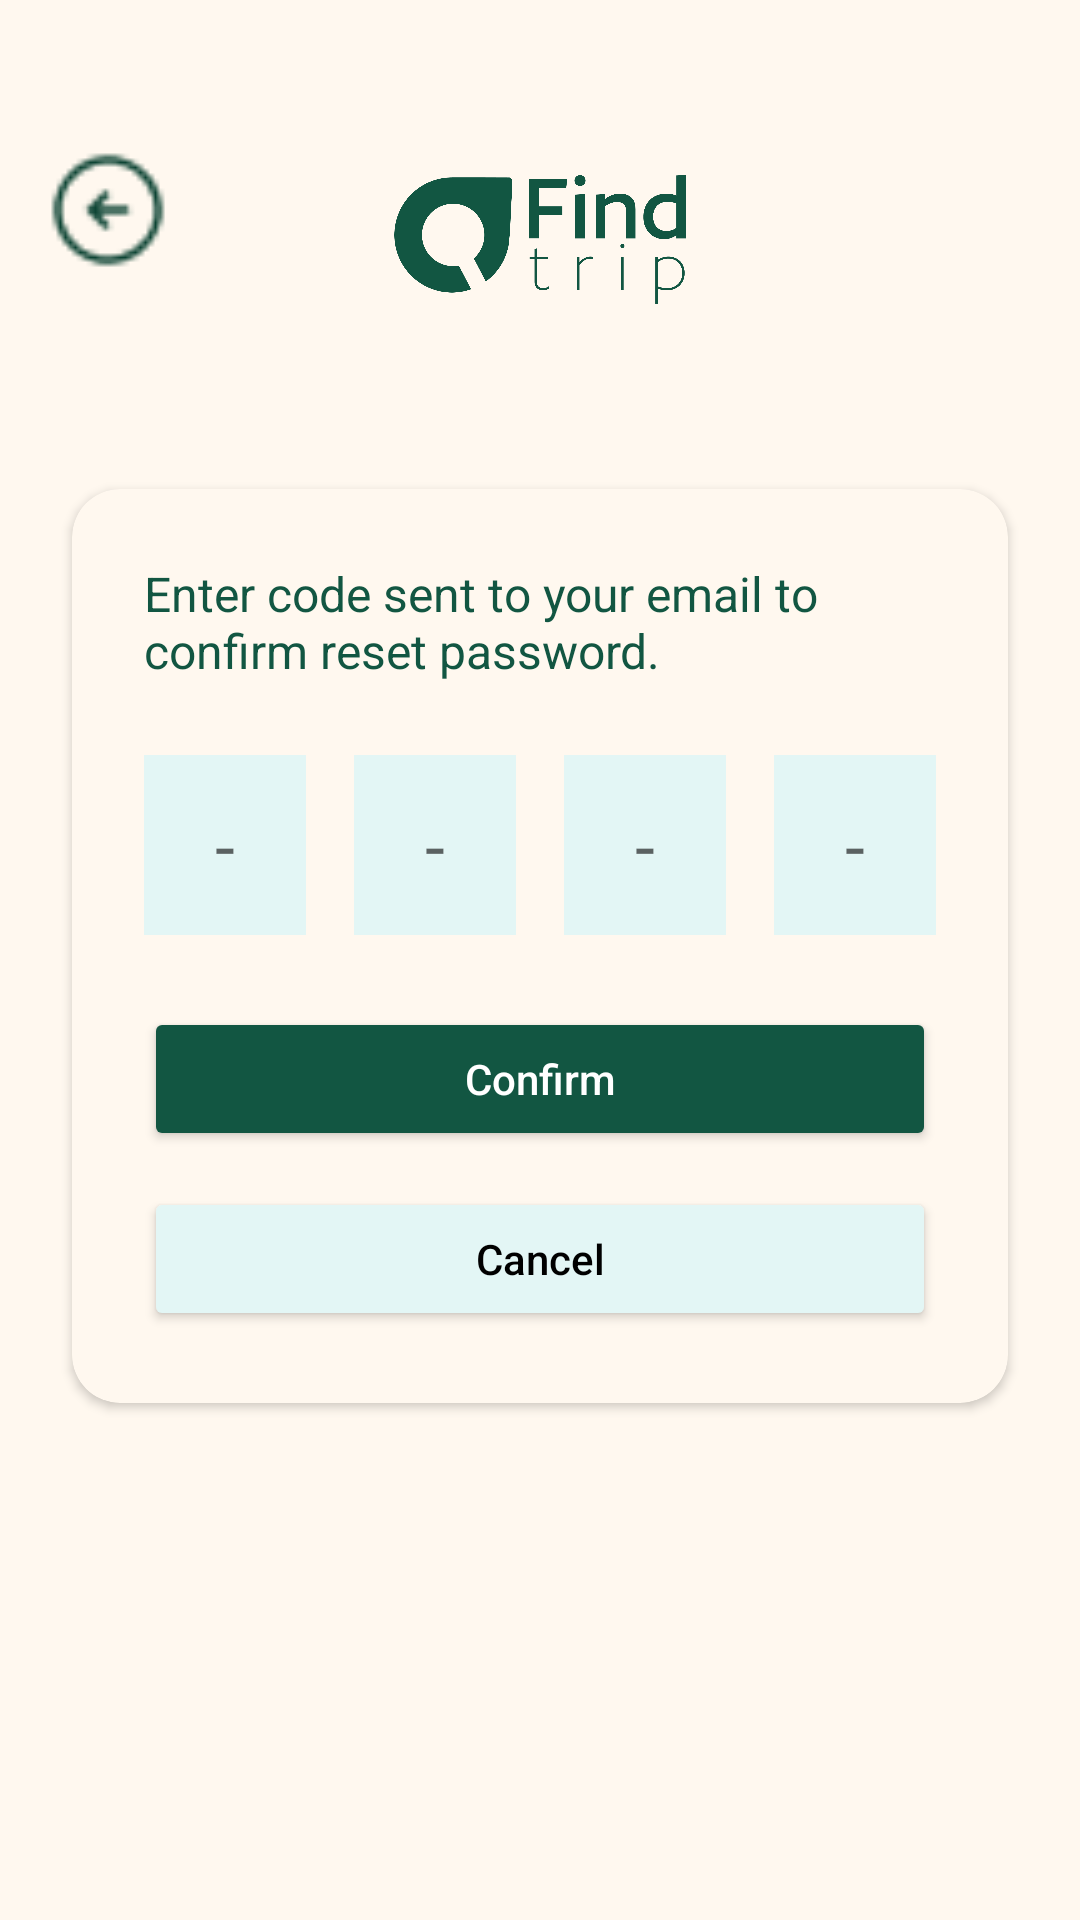

Named icons in this screenshot (1080px x 1920px) and their centers, point (x, y):
back: point (108, 210)
